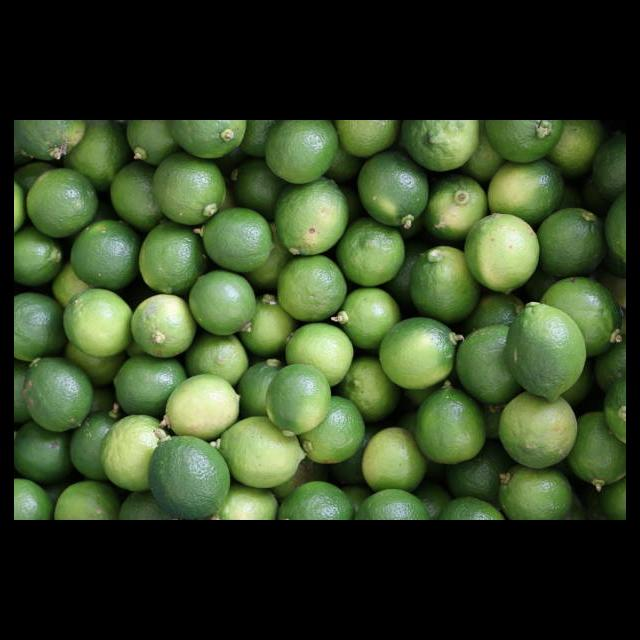lime: (148, 437, 233, 520), (264, 121, 339, 186), (188, 270, 259, 337)
